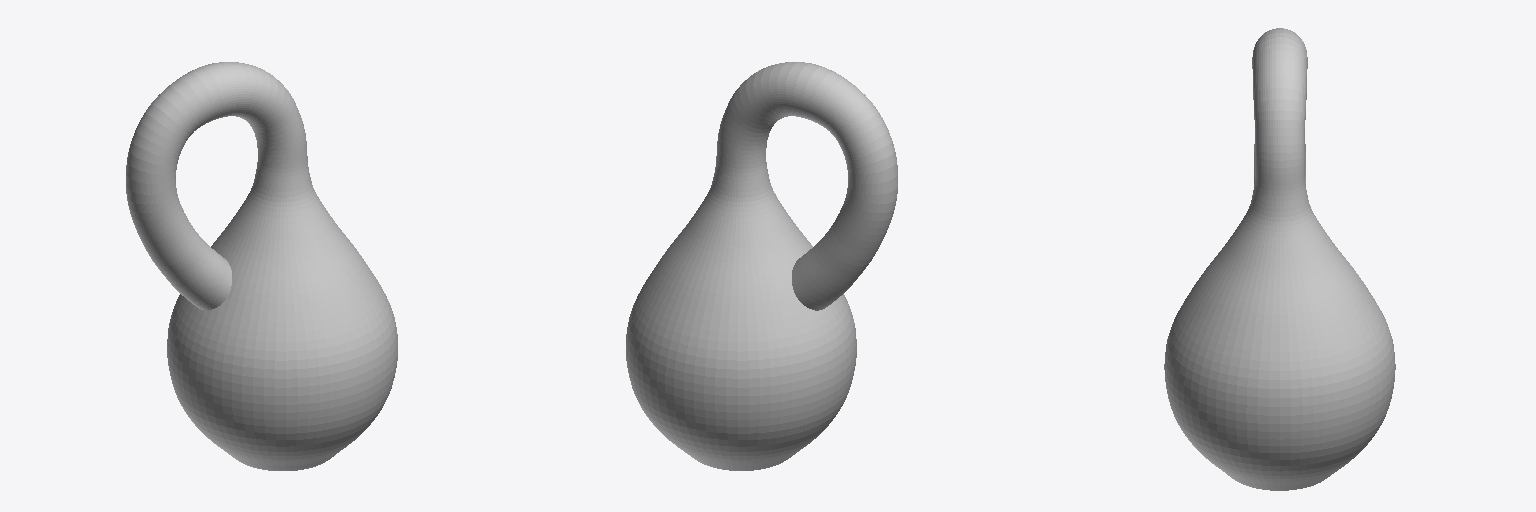
The model's file is klein.obj.
3 views of the same model, side by side, from view 1: azimuth 30°, elevation 25°; view 2: azimuth 150°, elevation 25°; view 3: azimuth 270°, elevation 25° (orthographic).
Parts seen in each view (by area): view 1: Circle.002; view 2: Circle.002; view 3: Circle.002.
Boxes of the visible parts, x1,y1,x2,y2 form: Circle.002: [126, 62, 397, 470]; Circle.002: [626, 62, 897, 470]; Circle.002: [1164, 28, 1395, 490].
Size of the model in its own units: 5.58 by 8.41 by 4.41.